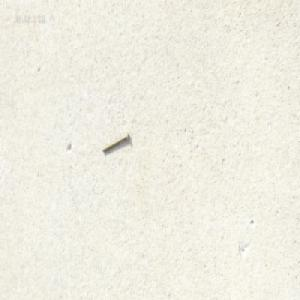Bolt: (101, 130, 129, 153)
